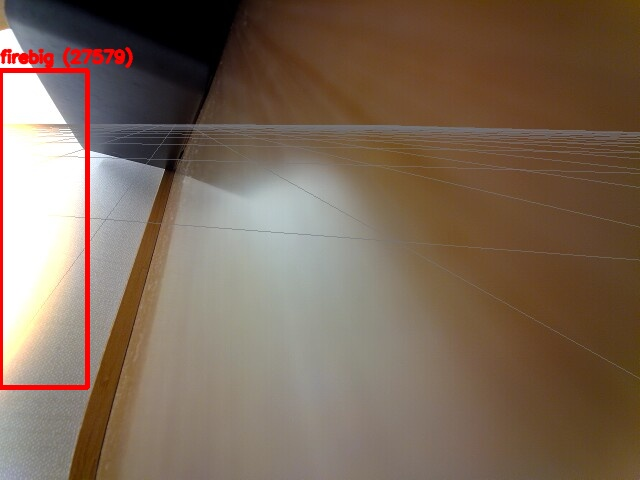firebig: (0, 70, 87, 387)
